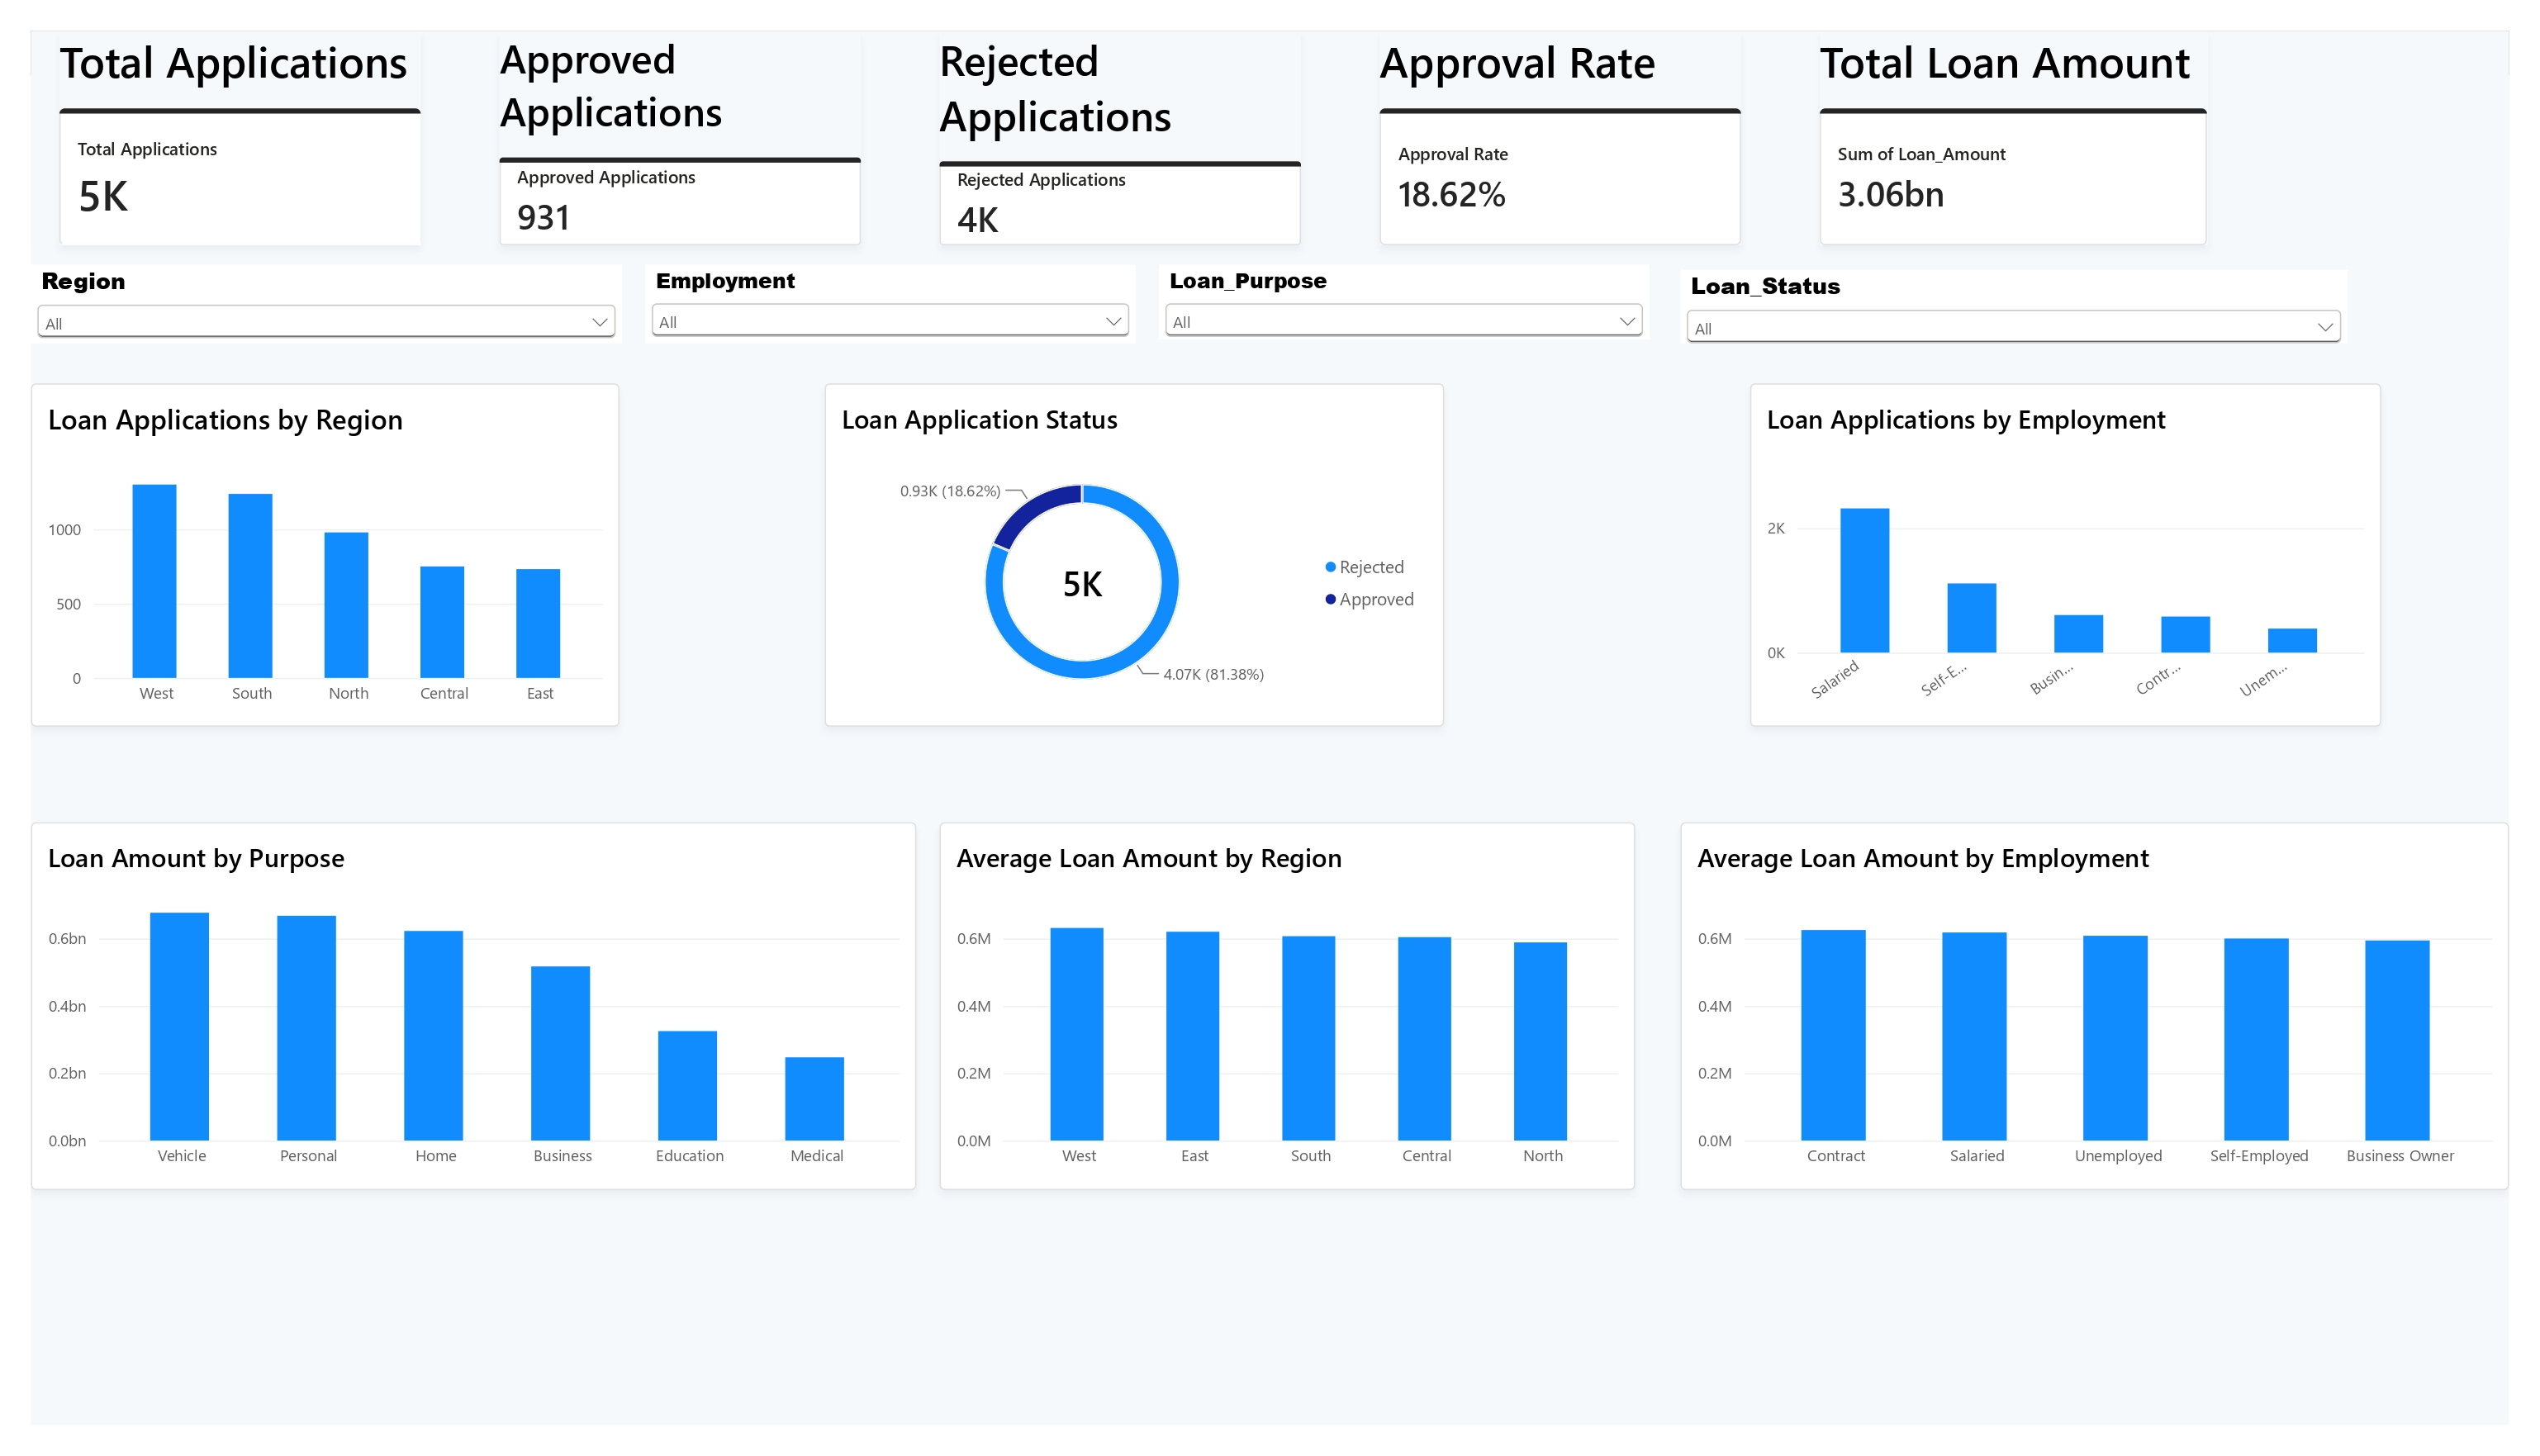

Layout of this report page (visuals, bound fields, positions):
{"tool":"powerbi","page":{"name":"Loan Application Overview","canvas":[1920,1080],"ordinal":0},"visuals":[{"type":"cardVisual","title":"Total Applications","fields":{"Data":["Banking_Loan_Risk_Analysis_Final.Total Applications"]},"box":[21.7,0,280.5,166.5],"z":0},{"type":"cardVisual","title":"Approved Applications","fields":{"Data":["Banking_Loan_Risk_Analysis_Final.Approved Applications"]},"box":[363.1,0,280,166],"z":1000},{"type":"cardVisual","title":"Rejected Applications","fields":{"Data":["Banking_Loan_Risk_Analysis_Final.Rejected Applications"]},"box":[704,0,280.5,166.5],"z":2000},{"type":"cardVisual","title":"Approval Rate","fields":{"Data":["Banking_Loan_Risk_Analysis_Final.Approval Rate"]},"box":[1045.3,0,280,166],"z":3000},{"type":"cardVisual","title":"Total Loan Amount","fields":{"Data":["Sum(Banking_Loan_Risk_Analysis_Final.Loan_Amount)"]},"box":[1386.2,0,300.4,166.5],"z":4000},{"type":"clusteredColumnChart","title":"Loan Applications by Region","fields":{"Category":["Banking_Loan_Risk_Analysis_Final.Region"],"Y":["Banking_Loan_Risk_Analysis_Final.Total Applications"]},"box":[0,273.3,456,266],"z":5000},{"type":"donutChart","title":"Loan Application Status","fields":{"Category":["Banking_Loan_Risk_Analysis_Final.Loan_Status"],"Y":["CountNonNull(Banking_Loan_Risk_Analysis_Final.Loan_ID)"]},"box":[615.3,273.3,479.6,266],"z":6000},{"type":"clusteredColumnChart","title":"Loan Amount by Purpose","fields":{"Category":["Banking_Loan_Risk_Analysis_Final.Loan_Purpose"],"Y":["Sum(Banking_Loan_Risk_Analysis_Final.Loan_Amount)"]},"box":[0,613.5,685.9,284.1],"z":7000},{"type":"clusteredColumnChart","title":"Loan Applications by Employment","fields":{"Category":["Banking_Loan_Risk_Analysis_Final.Employment"],"Y":["CountNonNull(Banking_Loan_Risk_Analysis_Final.Loan_ID)"]},"box":[1331.9,273.3,488.6,266],"z":8000},{"type":"clusteredColumnChart","title":"Average Loan Amount by Region","fields":{"Category":["Banking_Loan_Risk_Analysis_Final.Region"],"Y":["Avg(Banking_Loan_Risk_Analysis_Final.Loan_Amount)"]},"box":[704,613.5,539.3,284.1],"z":9000},{"type":"clusteredColumnChart","title":"Average Loan Amount by Employment","fields":{"Category":["Banking_Loan_Risk_Analysis_Final.Employment"],"Y":["Avg(Banking_Loan_Risk_Analysis_Final.Loan_Amount)"]},"box":[1277.6,613.5,642.4,284.1],"z":10000},{"type":"slicer","fields":{"Values":["Banking_Loan_Risk_Analysis_Final.Region"]},"box":[0,181,457.8,61.5],"z":10001},{"type":"slicer","fields":{"Values":["Banking_Loan_Risk_Analysis_Final.Employment"]},"box":[475.9,181,380,61.5],"z":10002},{"type":"slicer","fields":{"Values":["Banking_Loan_Risk_Analysis_Final.Loan_Purpose"]},"box":[874.1,181,380,57.9],"z":10003},{"type":"slicer","fields":{"Values":["Banking_Loan_Risk_Analysis_Final.Loan_Status"]},"box":[1277.6,184.6,517.6,57.9],"z":10004}]}

Visuals, with their boxes on the page's 1920x1080 design canvas (x1, y1, x2, y2). These are canvas units, not pixel positions in the 2540x1456 screenshot, which may show the page scaled, cropped or inside an application window:
"Total Applications" cardVisual: <region>22, 0, 302, 166</region>
"Approved Applications" cardVisual: <region>363, 0, 643, 166</region>
"Rejected Applications" cardVisual: <region>704, 0, 984, 166</region>
"Approval Rate" cardVisual: <region>1045, 0, 1325, 166</region>
"Total Loan Amount" cardVisual: <region>1386, 0, 1687, 166</region>
"Loan Applications by Region" clusteredColumnChart: <region>0, 273, 456, 539</region>
"Loan Application Status" donutChart: <region>615, 273, 1095, 539</region>
"Loan Amount by Purpose" clusteredColumnChart: <region>0, 614, 686, 898</region>
"Loan Applications by Employment" clusteredColumnChart: <region>1332, 273, 1820, 539</region>
"Average Loan Amount by Region" clusteredColumnChart: <region>704, 614, 1243, 898</region>
"Average Loan Amount by Employment" clusteredColumnChart: <region>1278, 614, 1920, 898</region>
slicer - Banking_Loan_Risk_Analysis_Final.Region: <region>0, 181, 458, 242</region>
slicer - Banking_Loan_Risk_Analysis_Final.Employment: <region>476, 181, 856, 242</region>
slicer - Banking_Loan_Risk_Analysis_Final.Loan_Purpose: <region>874, 181, 1254, 239</region>
slicer - Banking_Loan_Risk_Analysis_Final.Loan_Status: <region>1278, 185, 1795, 242</region>
